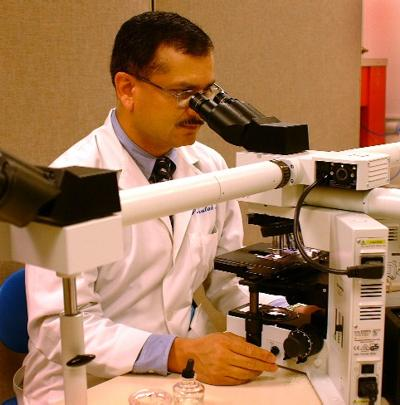person: (14, 12, 278, 402)
